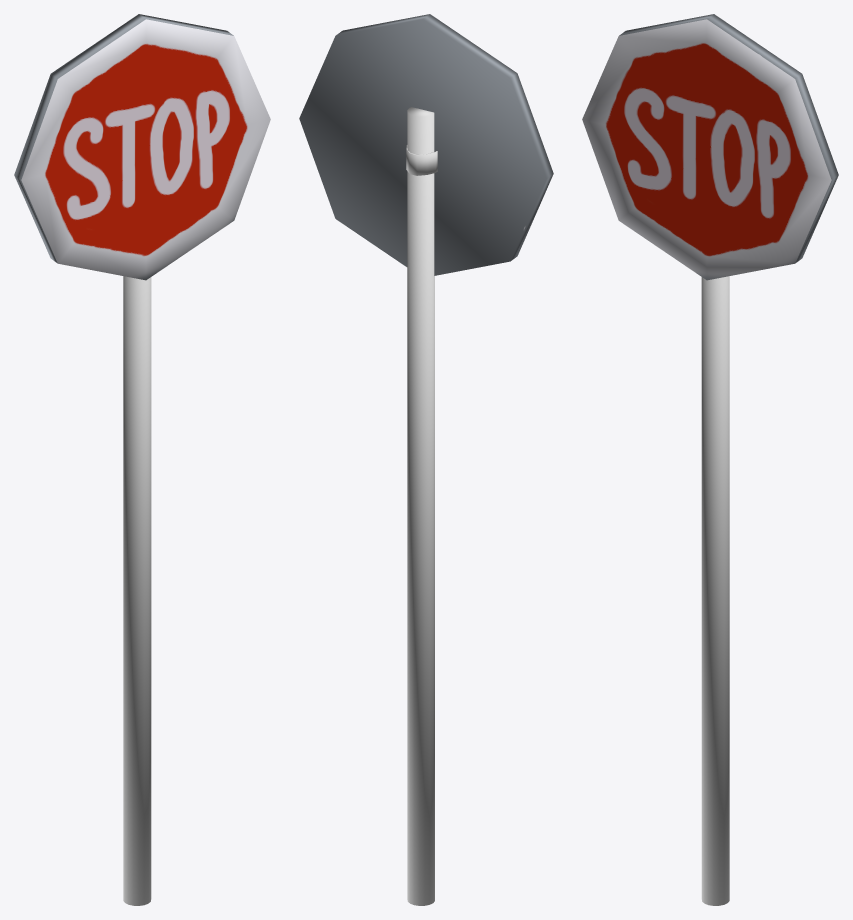
File: stop.glb
The picture shows the model from 3 angles, left to right: view 1: azimuth 30°, elevation 25°; view 2: azimuth 150°, elevation 25°; view 3: azimuth 330°, elevation 25°; orthographic projection.
Parts seen in each view (by area): view 1: Cylinder.001, Cylinder; view 2: Cylinder.001, Cylinder, Cube; view 3: Cylinder.001, Cylinder.
Part boxes in pixels (x1=…): Cylinder.001: x1=14, y1=14, x2=270, y2=280; Cylinder: x1=123, y1=276, x2=151, y2=905; Cylinder.001: x1=299, y1=14, x2=553, y2=275; Cylinder: x1=407, y1=107, x2=434, y2=905; Cube: x1=406, y1=145, x2=437, y2=175; Cylinder.001: x1=582, y1=14, x2=838, y2=280; Cylinder: x1=701, y1=276, x2=729, y2=905.
Bounding box in the file's own units: 3.28 × 11.13 × 0.3821.
Materials: 2 (1 with a texture image).
